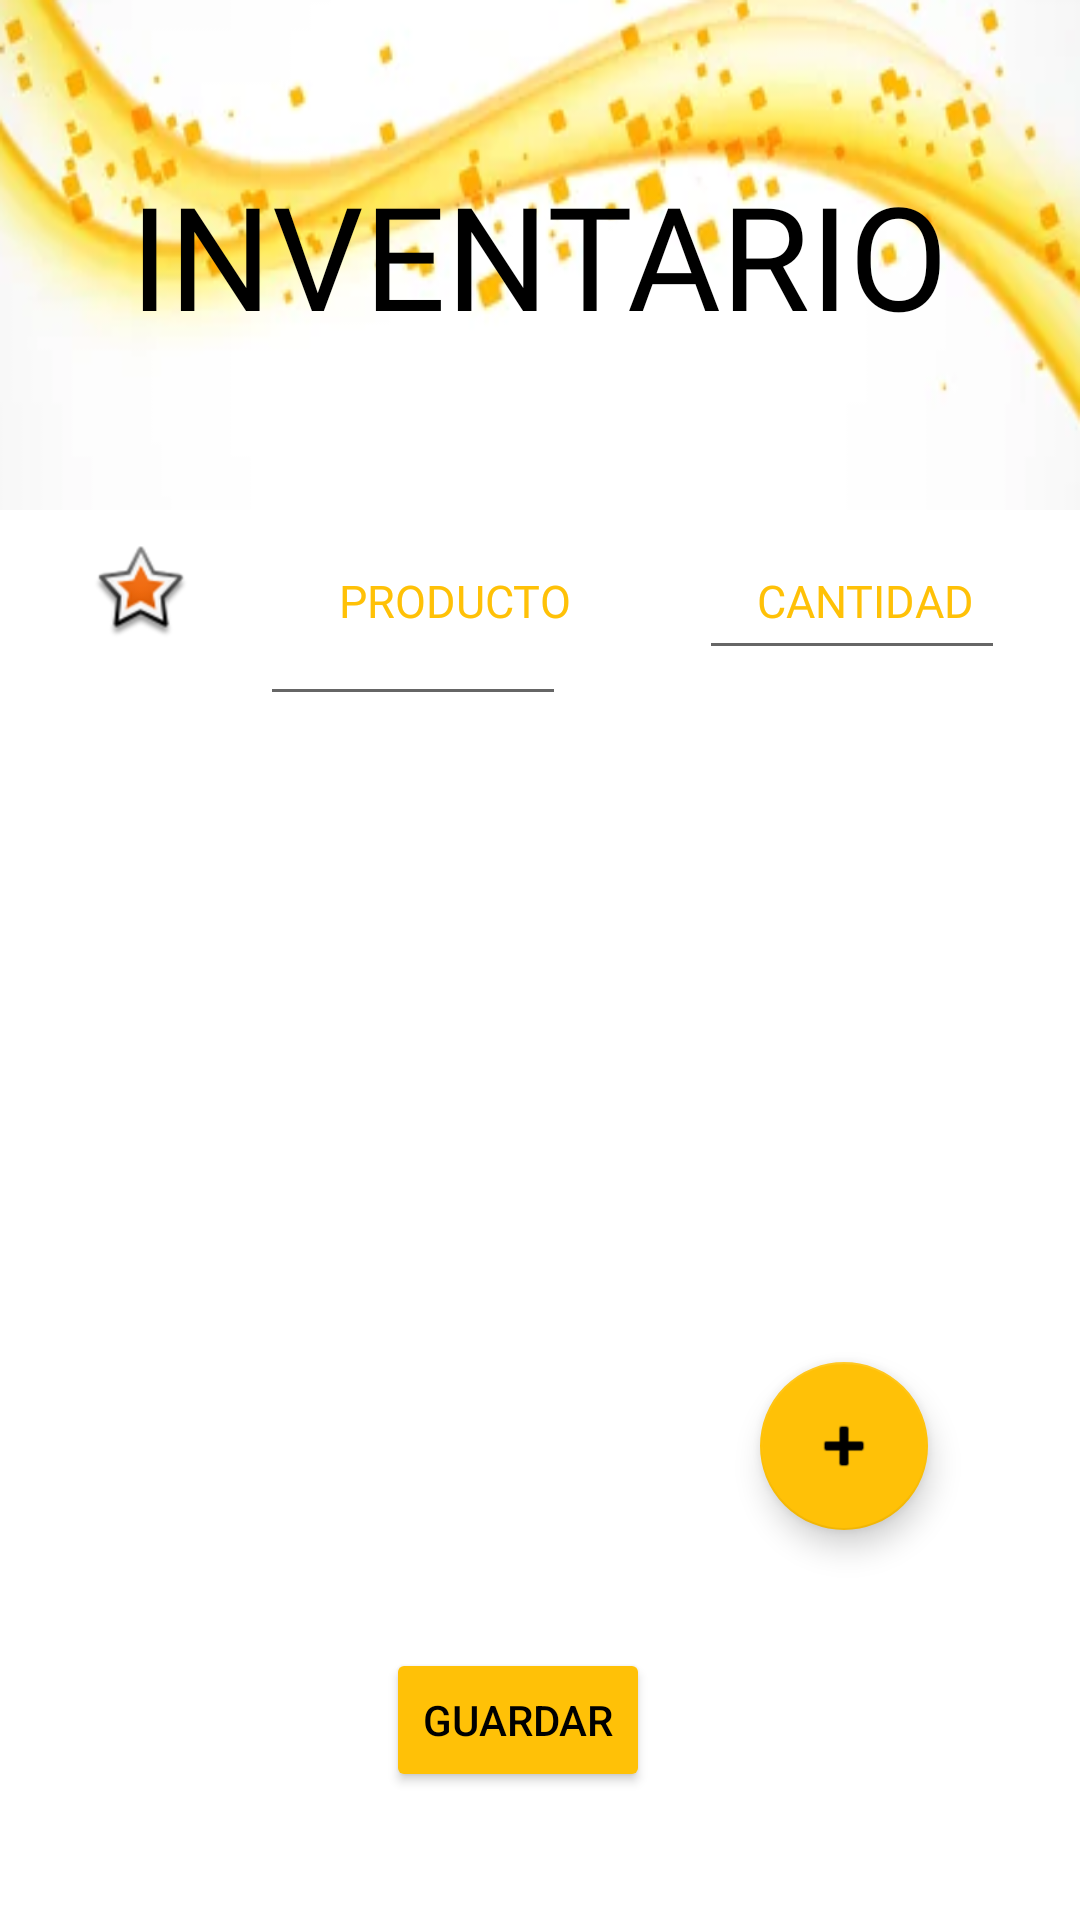

Icons on this 1080px x 1920px Android screen, each with the point to tap as point (x, y):
add: point (844, 1446)
star on: point (141, 589)
